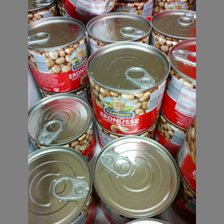nuts: (85, 41, 172, 135), (28, 17, 91, 94), (161, 39, 196, 128)
